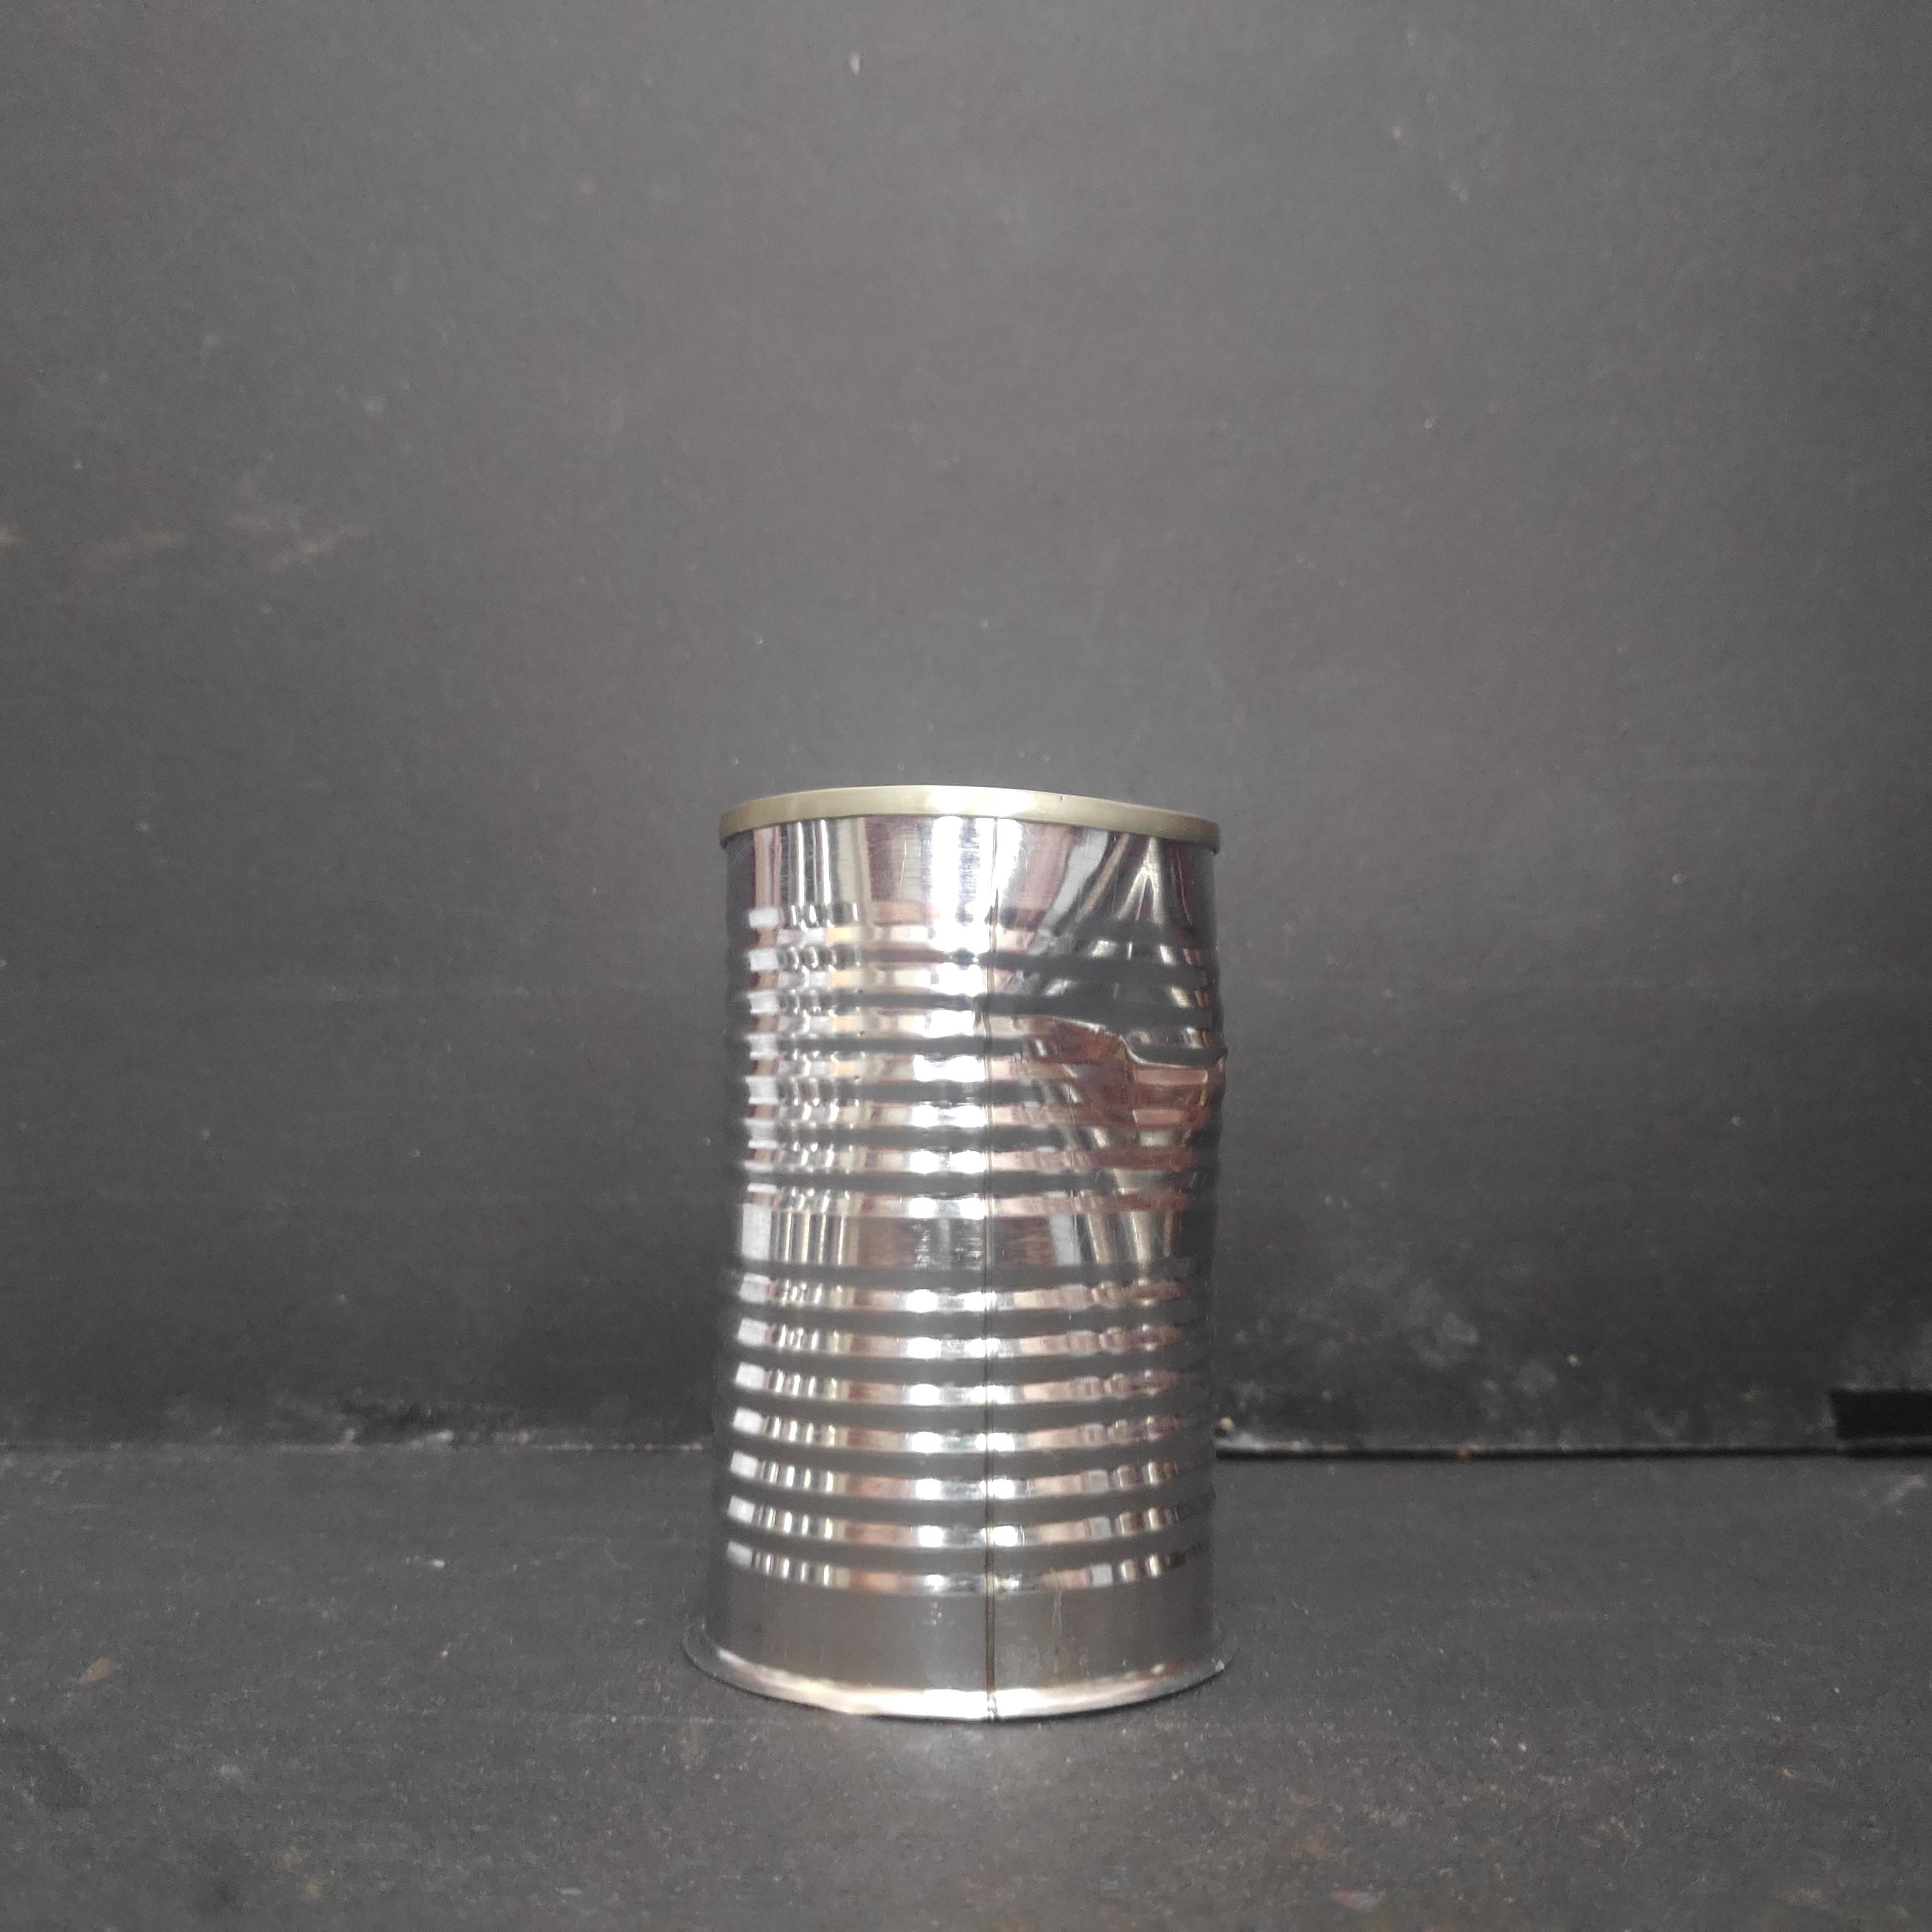Minor Defect: (694, 768, 1258, 1741)
